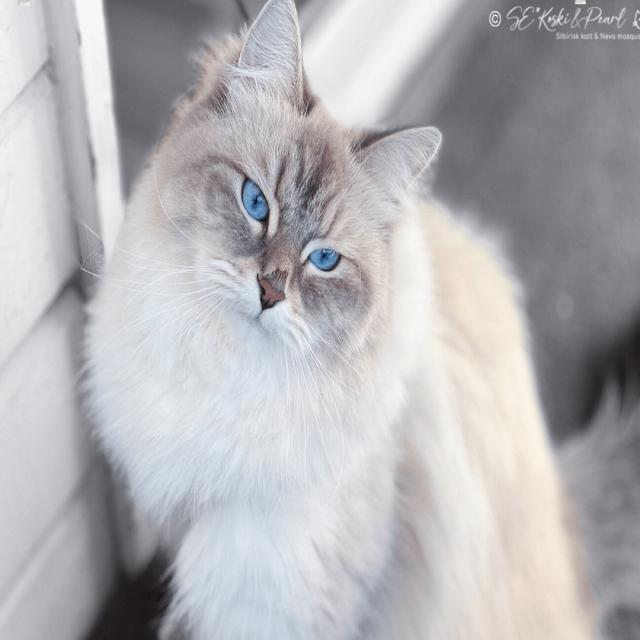Neva Masquerade: (73, 0, 614, 640)
